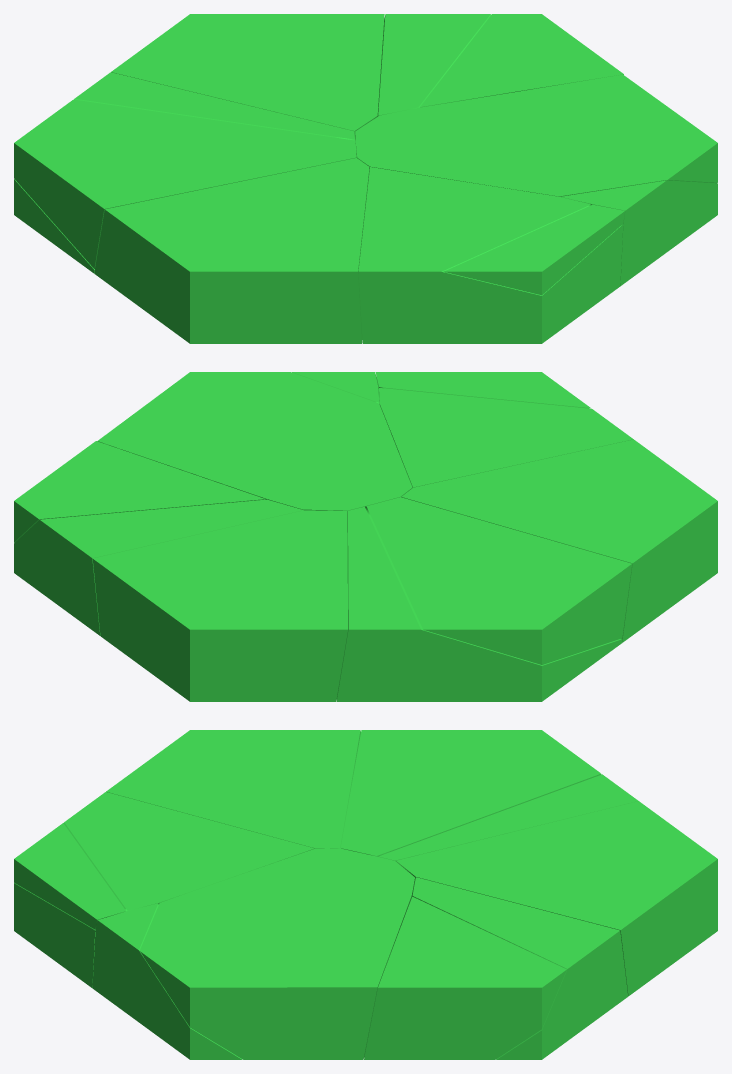
Rendered from greenfractured.fbx.
The picture shows the model from 3 angles, top to bottom: view 1: azimuth 30°, elevation 25°; view 2: azimuth 150°, elevation 25°; view 3: azimuth 270°, elevation 25°; orthographic projection.
Visible parts, largest first — view 1: Cylinder_cell.023, Cylinder_cell.021, Cylinder_cell.020, Cylinder_cell.024, Cylinder_cell.025, Cylinder_cell.028, Cylinder_cell.026, Cylinder_cell.029, Cylinder_cell.022, Cylinder_cell.027; view 2: Cylinder_cell.025, Cylinder_cell.020, Cylinder_cell.024, Cylinder_cell.023, Cylinder_cell.026, Cylinder_cell.021, Cylinder_cell.027, Cylinder_cell.028, Cylinder_cell.022, Cylinder_cell.029; view 3: Cylinder_cell.020, Cylinder_cell.025, Cylinder_cell.028, Cylinder_cell.024, Cylinder_cell.023, Cylinder_cell.021, Cylinder_cell.027, Cylinder_cell.029, Cylinder_cell.022, Cylinder_cell.026.
Part boxes in pixels (x1=…): Cylinder_cell.023: x1=94, y1=158, x2=369, y2=343; Cylinder_cell.021: x1=358, y1=167, x2=623, y2=343; Cylinder_cell.020: x1=355, y1=74, x2=717, y2=196; Cylinder_cell.024: x1=14, y1=99, x2=356, y2=268; Cylinder_cell.025: x1=111, y1=14, x2=384, y2=137; Cylinder_cell.028: x1=420, y1=14, x2=623, y2=107; Cylinder_cell.026: x1=14, y1=72, x2=356, y2=273; Cylinder_cell.029: x1=560, y1=180, x2=717, y2=286; Cylinder_cell.022: x1=444, y1=204, x2=624, y2=295; Cylinder_cell.027: x1=377, y1=14, x2=491, y2=116; Cylinder_cell.025: x1=92, y1=510, x2=347, y2=701; Cylinder_cell.020: x1=97, y1=372, x2=412, y2=513; Cylinder_cell.024: x1=366, y1=497, x2=632, y2=664; Cylinder_cell.023: x1=401, y1=439, x2=717, y2=642; Cylinder_cell.026: x1=336, y1=506, x2=622, y2=701; Cylinder_cell.021: x1=379, y1=387, x2=633, y2=487; Cylinder_cell.027: x1=14, y1=499, x2=303, y2=635; Cylinder_cell.028: x1=14, y1=441, x2=265, y2=542; Cylinder_cell.022: x1=375, y1=372, x2=590, y2=407; Cylinder_cell.029: x1=292, y1=372, x2=379, y2=404; Cylinder_cell.020: x1=139, y1=848, x2=414, y2=1059; Cylinder_cell.025: x1=396, y1=801, x2=717, y2=996; Cylinder_cell.028: x1=364, y1=896, x2=566, y2=1059; Cylinder_cell.024: x1=341, y1=730, x2=600, y2=856; Cylinder_cell.023: x1=106, y1=730, x2=360, y2=848; Cylinder_cell.021: x1=14, y1=792, x2=314, y2=988; Cylinder_cell.027: x1=410, y1=877, x2=628, y2=1059; Cylinder_cell.029: x1=92, y1=903, x2=242, y2=1059; Cylinder_cell.022: x1=14, y1=823, x2=125, y2=929; Cylinder_cell.026: x1=376, y1=774, x2=638, y2=861.
Bounding box in the file's own units: 173 × 22.6 × 200.
